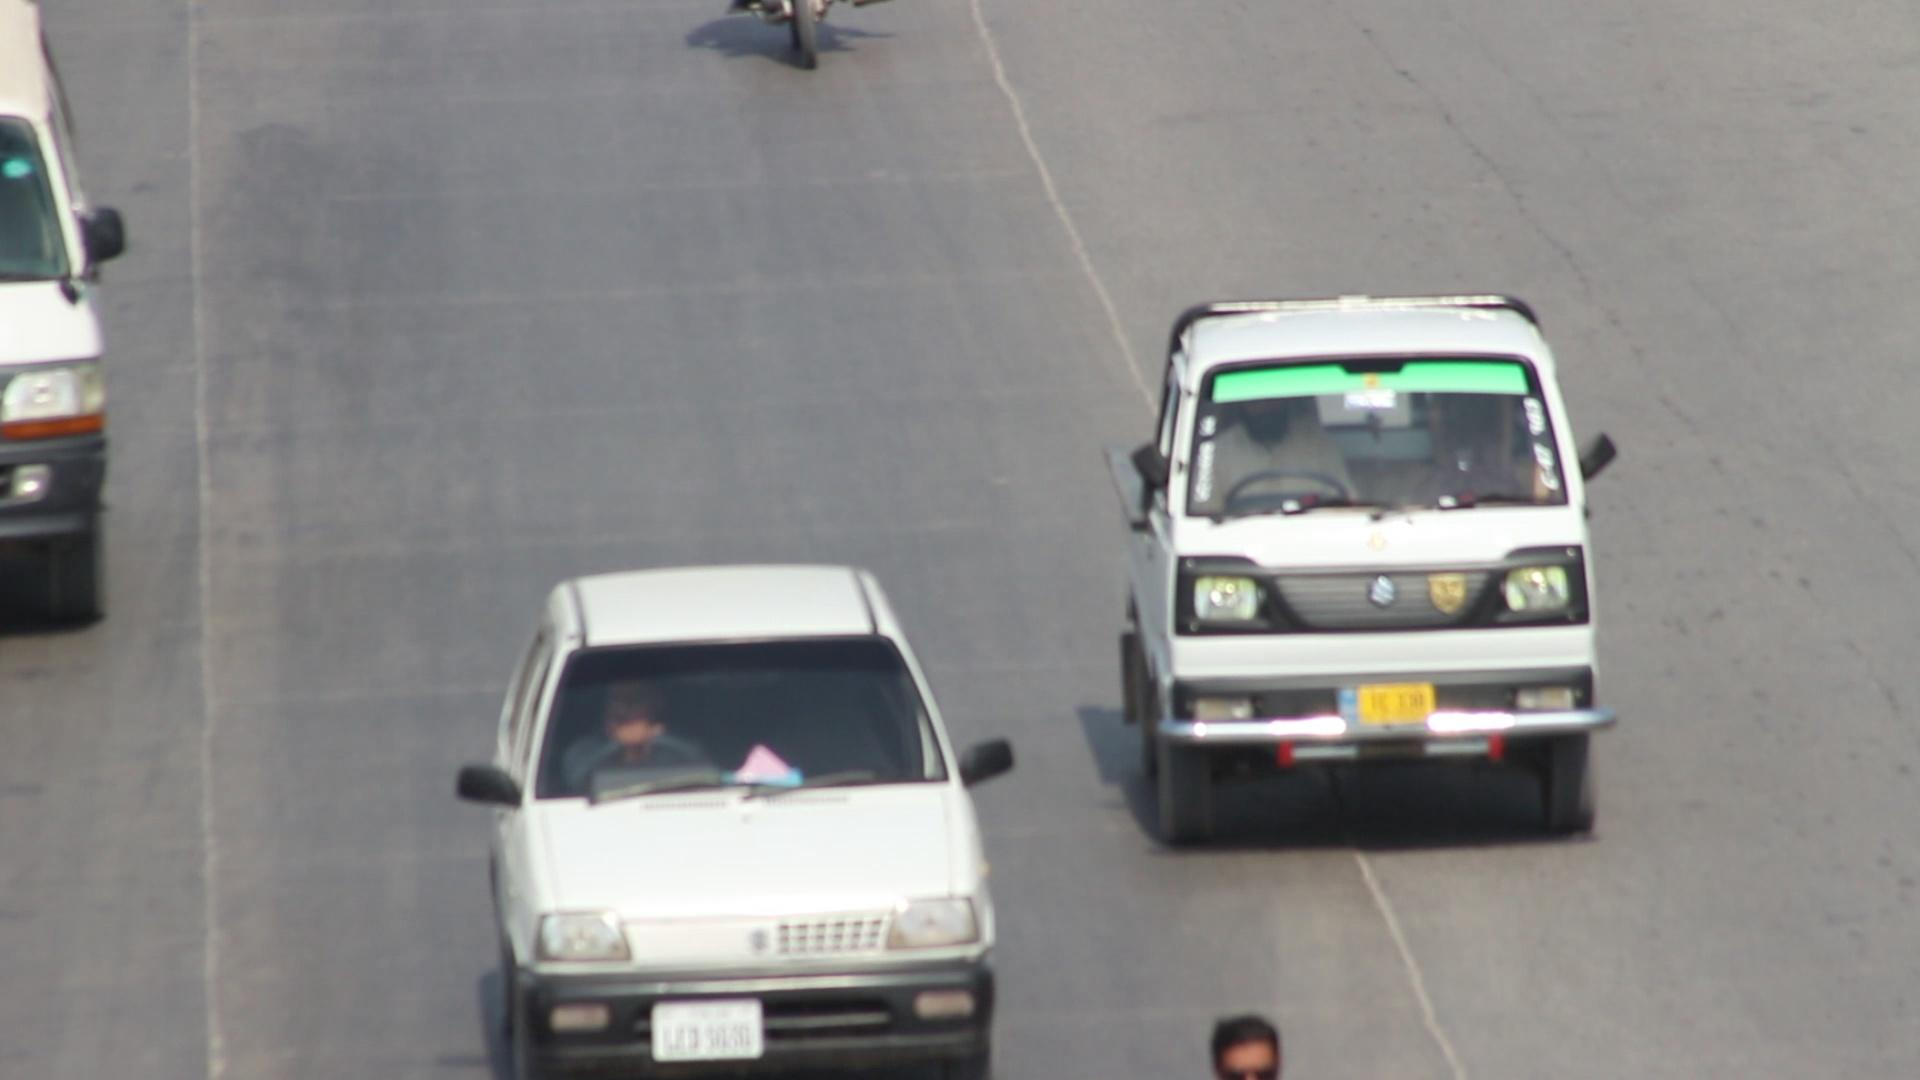windshield: (521, 620, 968, 827), (1184, 349, 1590, 533)
